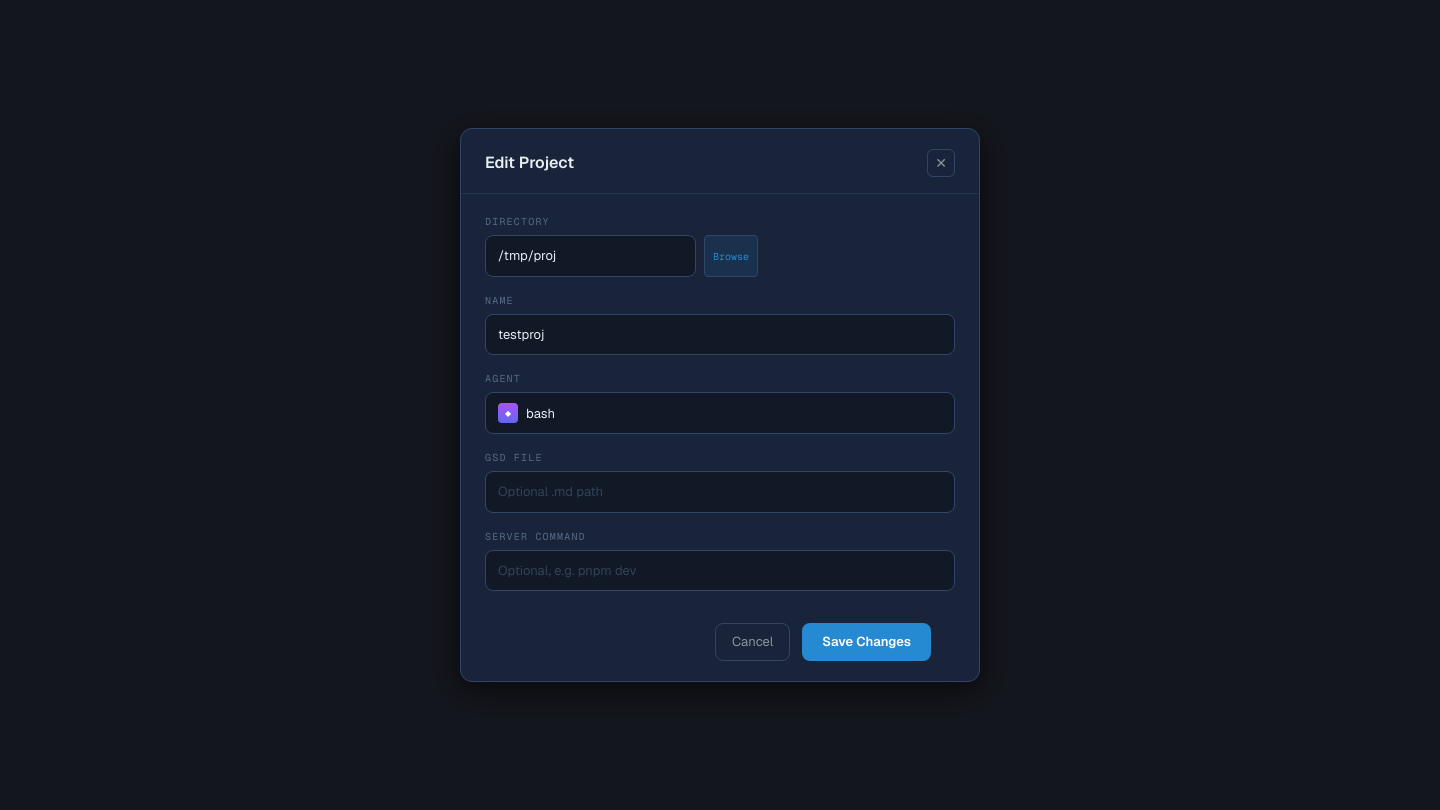
Test: ProjectModal save behavior › shows save progress immediately while saving settings
Replace the text in the field with placeholder "claude" below "AGENT" with "ccscodex". click: [734, 413]
box: [526,404,942,423]
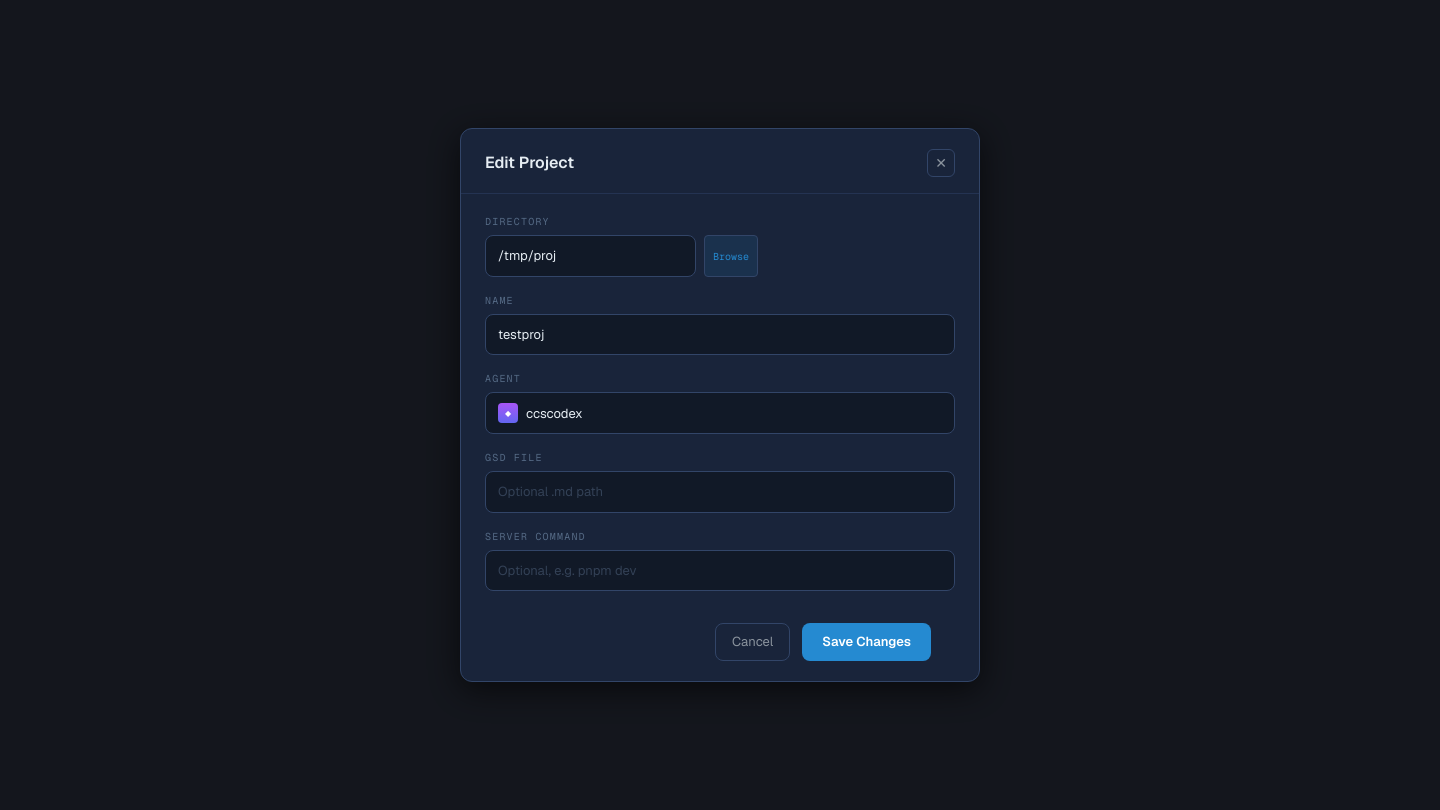
Click the button "Save Changes". click: [867, 642]
box: [802,623,931,661]
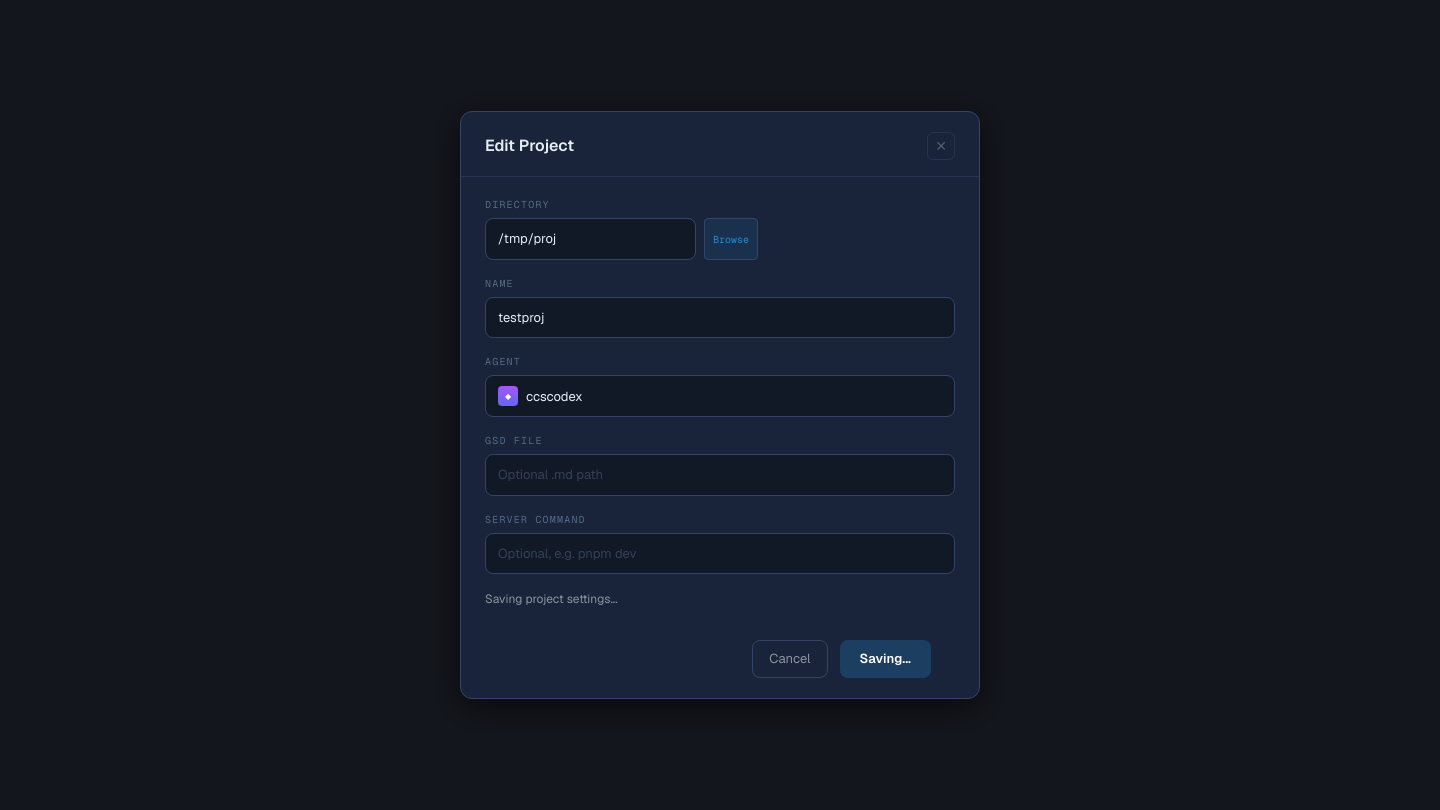
expect the message reads "Saving project settings...": met, box [485,591,618,607]
expect the button "Save Changes" is disabled: met, box [840,640,931,678]
